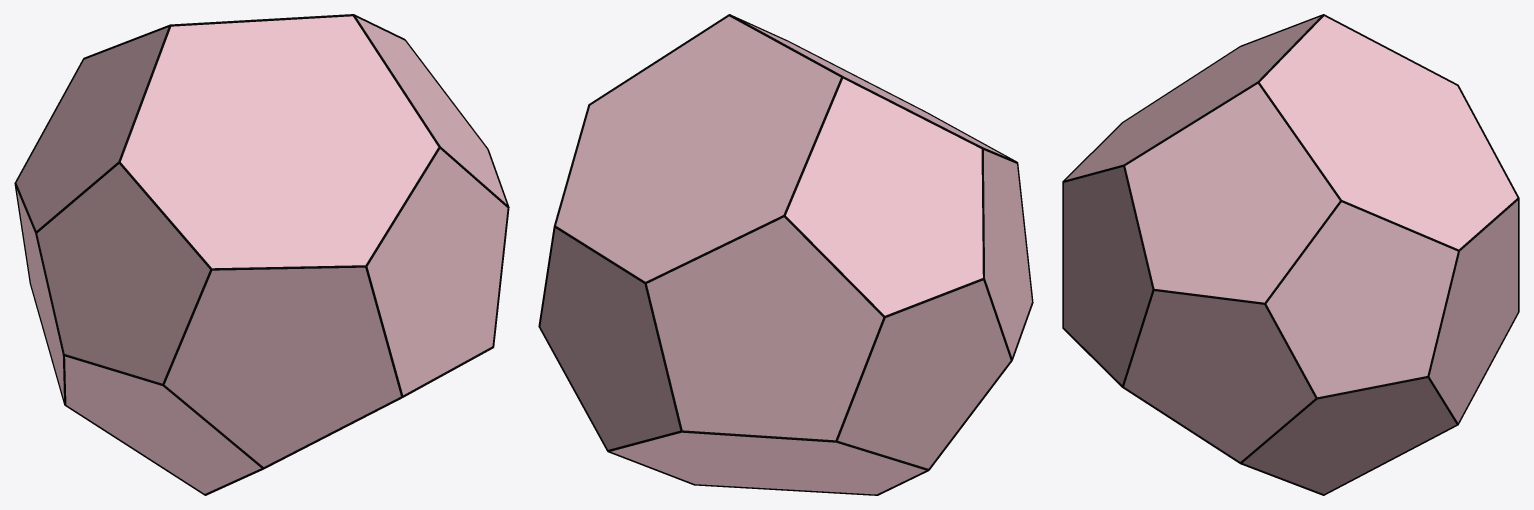
The picture shows the model from 3 angles, left to right: view 1: azimuth 30°, elevation 25°; view 2: azimuth 150°, elevation 25°; view 3: azimuth 270°, elevation 25°; orthographic projection. The views are drawn at different scales.
Visible parts, largest first — view 1: visgeom_0, geometry_edges0_0_C28-D2.off; view 2: visgeom_0, geometry_edges0_0_C28-D2.off; view 3: visgeom_0, geometry_edges0_0_C28-D2.off.
Part boxes in pixels (x1,y1,x2,y2): visgeom_0: [16, 16, 507, 493]; geometry_edges0_0_C28-D2.off: [14, 14, 509, 495]; visgeom_0: [540, 16, 1031, 494]; geometry_edges0_0_C28-D2.off: [538, 14, 1033, 495]; visgeom_0: [1064, 16, 1517, 493]; geometry_edges0_0_C28-D2.off: [1062, 14, 1519, 495].
Size of the model in its own units: 2.01 by 2.01 by 2.01.
